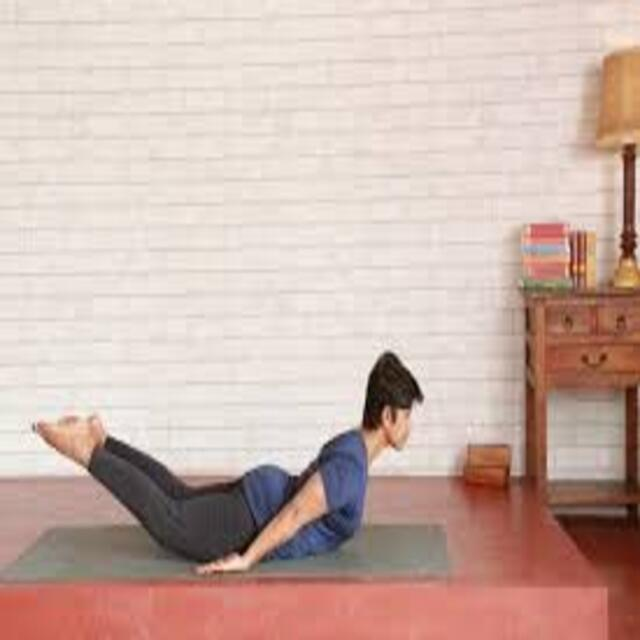Locust_Pose: (33, 350, 421, 577)
